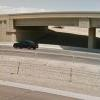Bridge: (3, 6, 100, 36)
